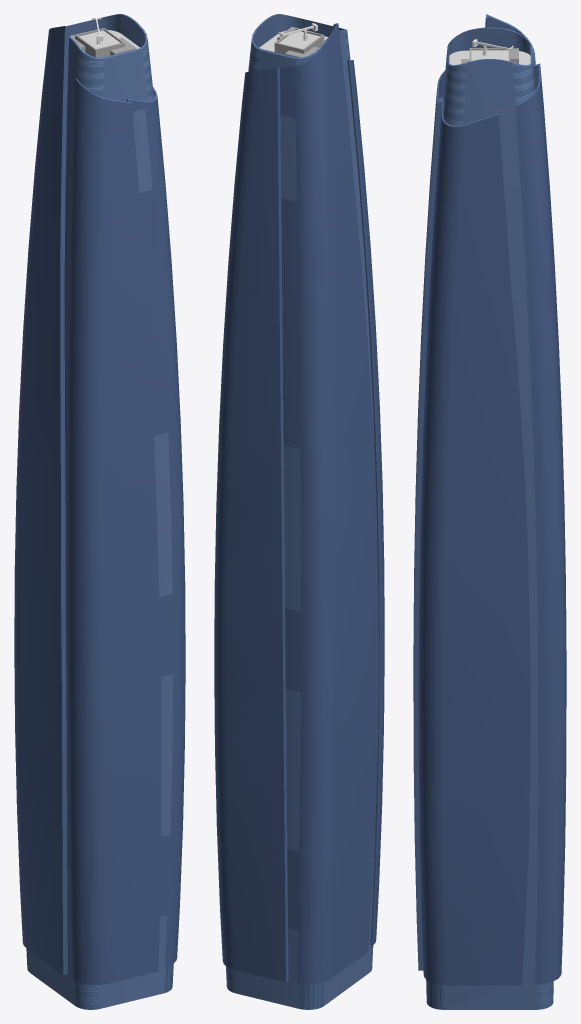
Rendered from dabaihui_plaza_7a7ad91b.glb.
The picture shows the model from 3 angles, left to right: view 1: azimuth 30°, elevation 25°; view 2: azimuth 150°, elevation 25°; view 3: azimuth 270°, elevation 25°; orthographic projection.
Visible parts, largest first — view 1: dabaihui_plaza_7a7ad91b; view 2: dabaihui_plaza_7a7ad91b; view 3: dabaihui_plaza_7a7ad91b.
Boxes of the visible parts, box(x1,y1,x2,y2) form: dabaihui_plaza_7a7ad91b: box(14, 14, 185, 1009); dabaihui_plaza_7a7ad91b: box(214, 14, 384, 1009); dabaihui_plaza_7a7ad91b: box(413, 14, 566, 1009).
Size of the model in its own units: 48.06 by 376 by 54.56.
1 material, 1 textured.
